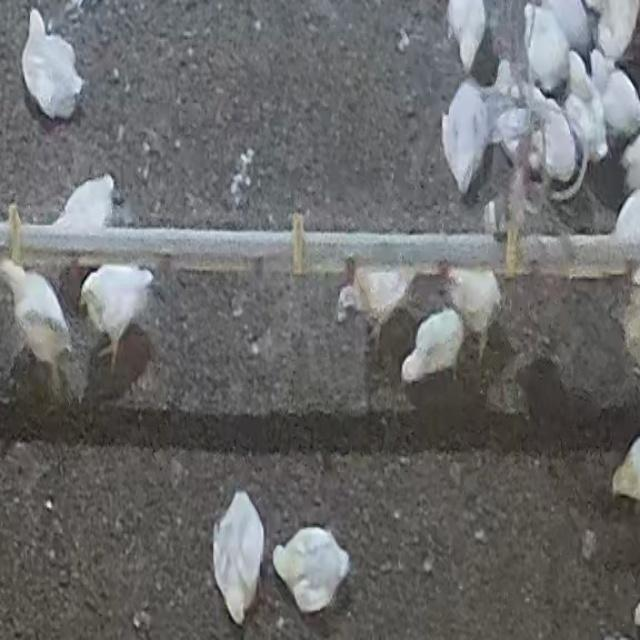chicken: (0, 258, 76, 402), (206, 486, 266, 629), (76, 266, 156, 368), (272, 523, 353, 615), (22, 7, 84, 122), (438, 80, 492, 198), (396, 303, 464, 394), (523, 90, 582, 194), (522, 3, 572, 98)
